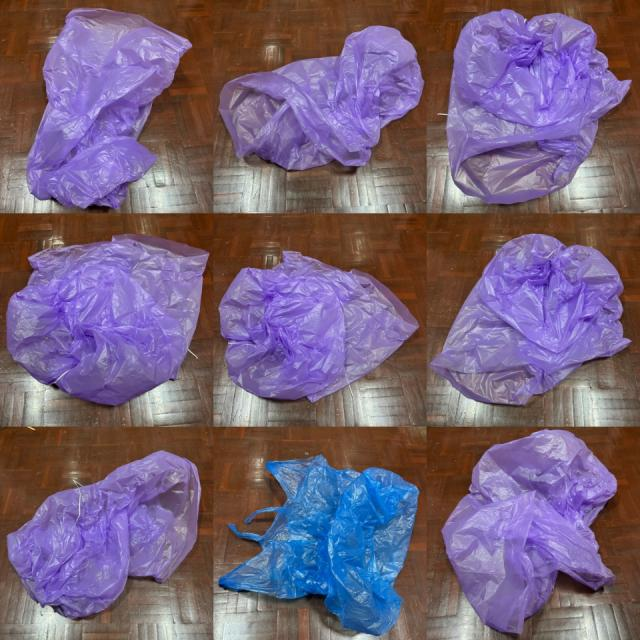Single-layer Plastic: (446, 9, 631, 204), (442, 430, 618, 633), (219, 455, 418, 634), (6, 234, 209, 404), (430, 234, 630, 404), (28, 9, 191, 209), (8, 451, 200, 618), (220, 251, 419, 402), (219, 26, 424, 170)
